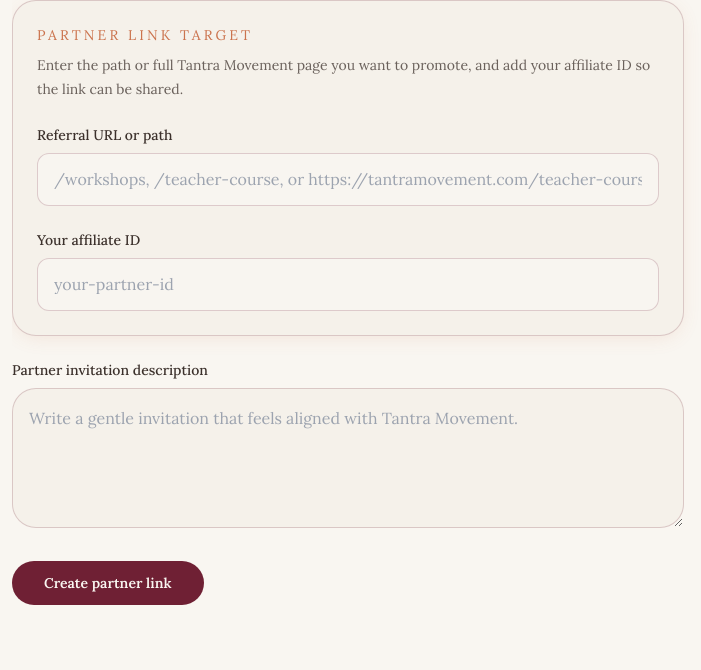
Test: AffiliateForm › shows validation errors for empty fields
Click the button "Create partner link": coordinates (108, 583) [12,561,204,605]
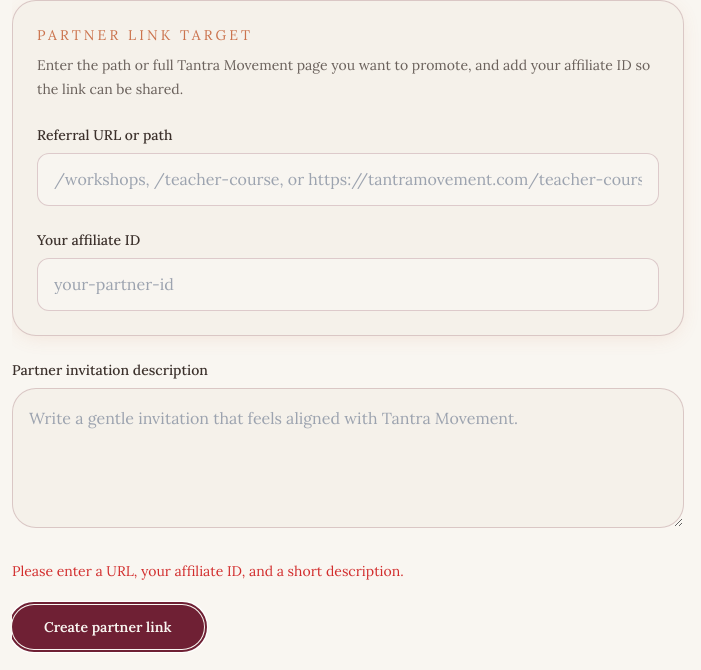
Check: the text "Please enter a URL, your affiliate ID, and a short description" is shown, box [12,562,404,580]
